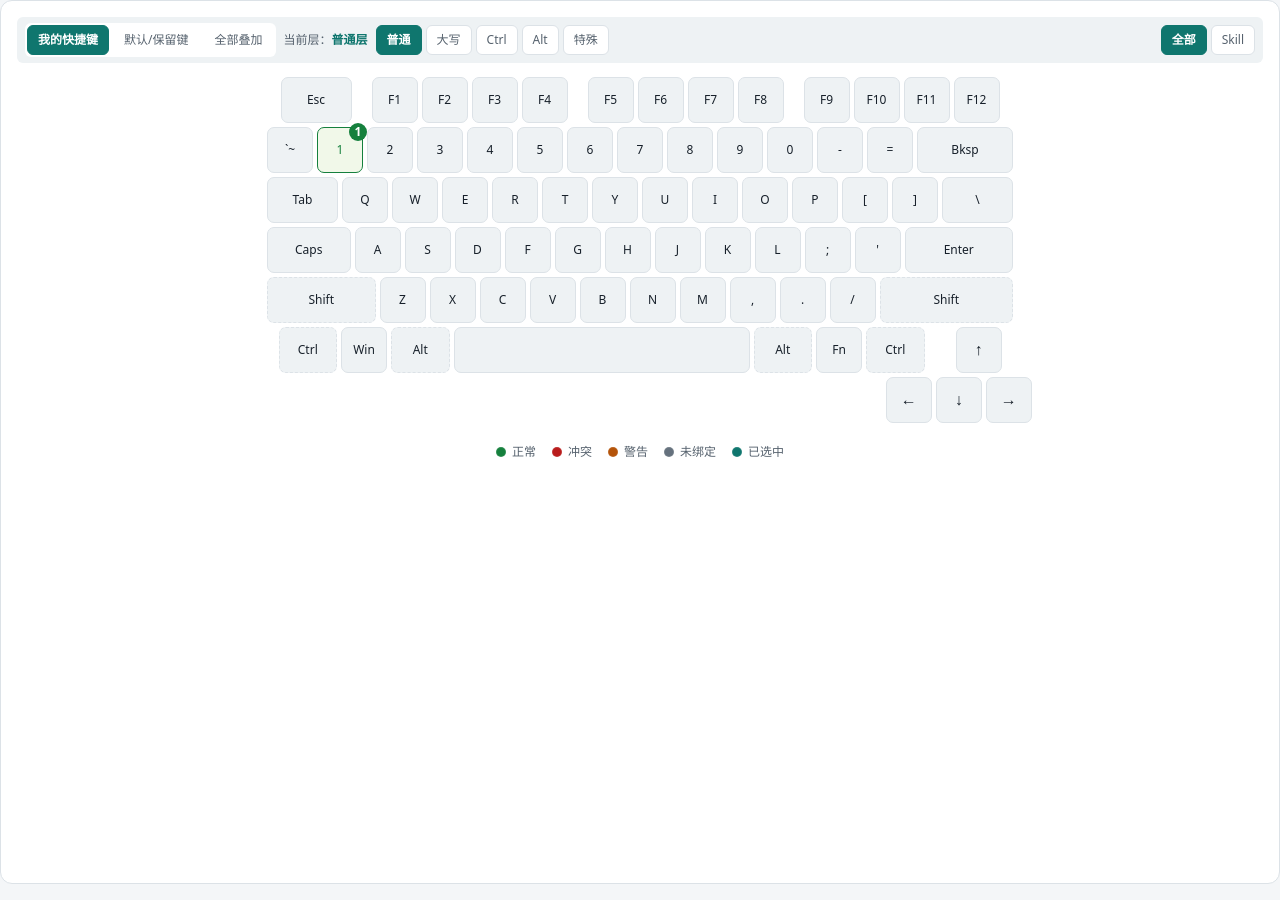
Test case: keyboard visualizer fixed typography › marks readonly reserved occupancy as occupied in my view when the key is not free
Check: the text "1" is shown, box 337,141 -> 344,158
Hover over the text "1" at x=340, y=150, box 317,127 -> 363,173
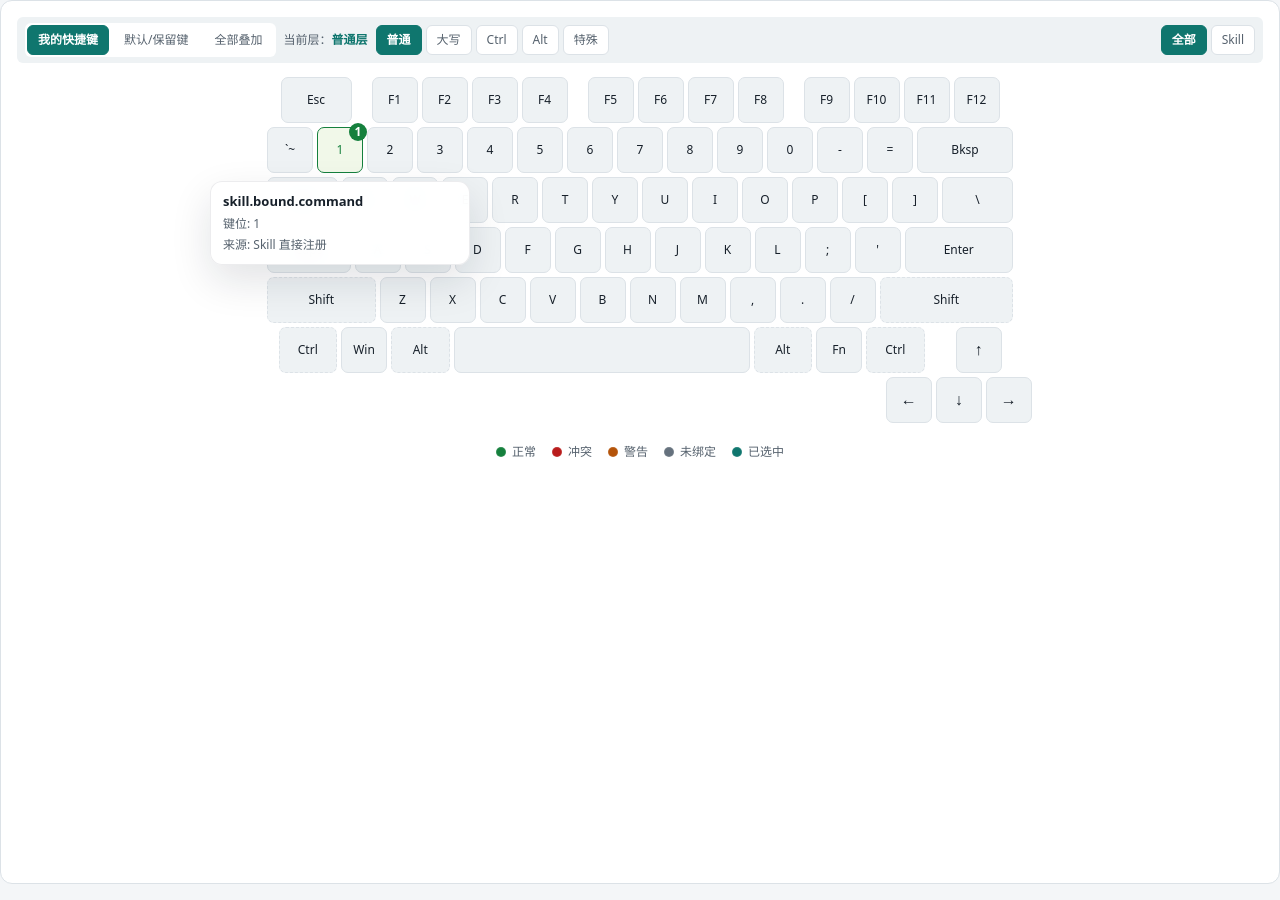
Check: the text "键位: 1" is shown, box 223,215 -> 260,232
Check: the text "来源: Skill 直接注册" is shown, box 223,236 -> 327,253
